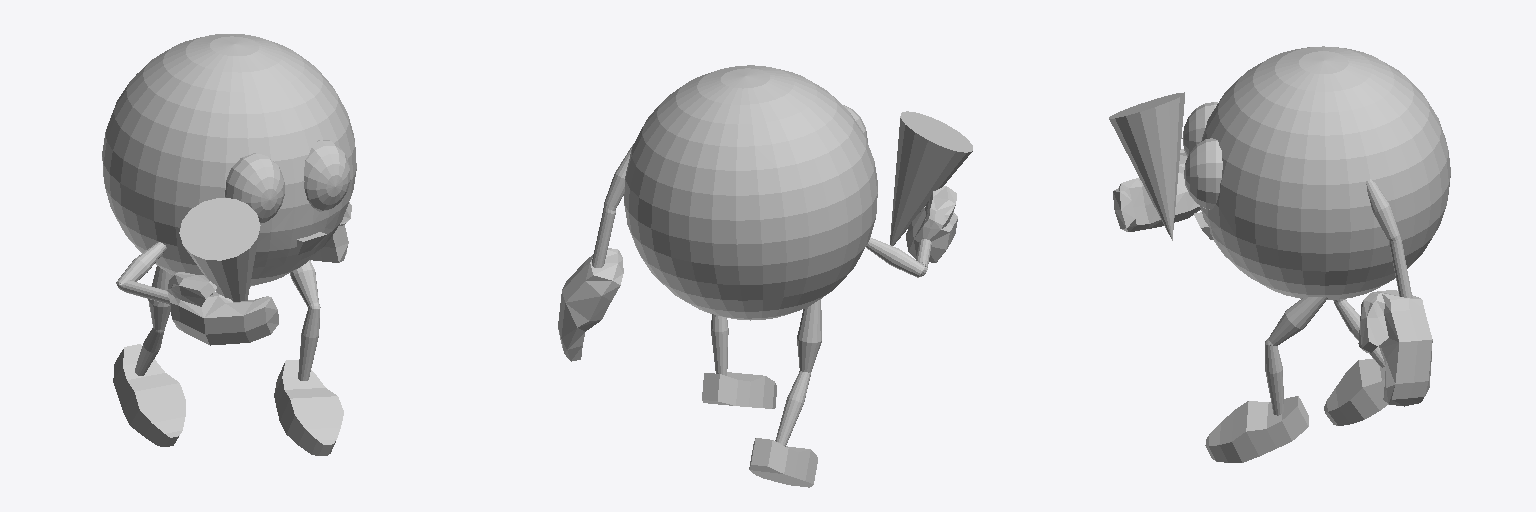
The model's file is walk2run_000019.obj.
3 renders of one model, left to right at view 1: azimuth 30°, elevation 25°; view 2: azimuth 150°, elevation 25°; view 3: azimuth 270°, elevation 25°, orthographic.
Visible parts, largest first — view 1: Rusko_Sphere; view 2: Rusko_Sphere; view 3: Rusko_Sphere.
Boxes of the visible parts, <box> form: Rusko_Sphere: <box>102,34,356,455</box>; Rusko_Sphere: <box>558,65,972,487</box>; Rusko_Sphere: <box>1109,46,1450,462</box>.
Bounding box in the file's own units: 5.37 × 6.77 × 5.36.